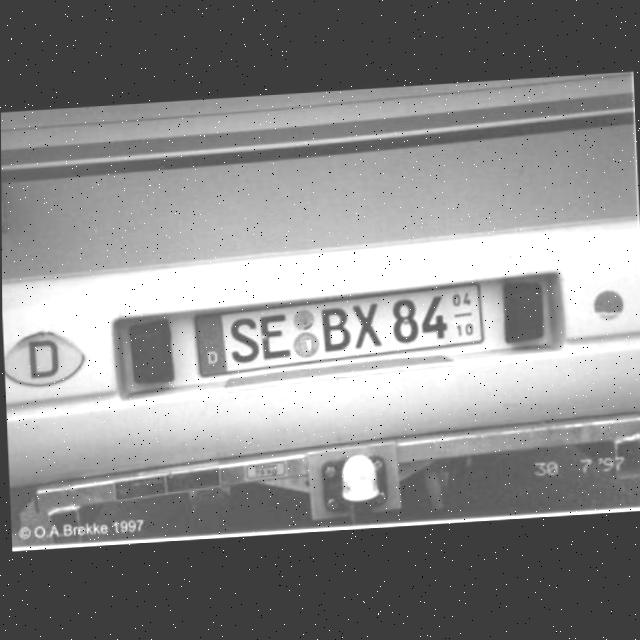license-plates: (195, 286, 483, 376)
